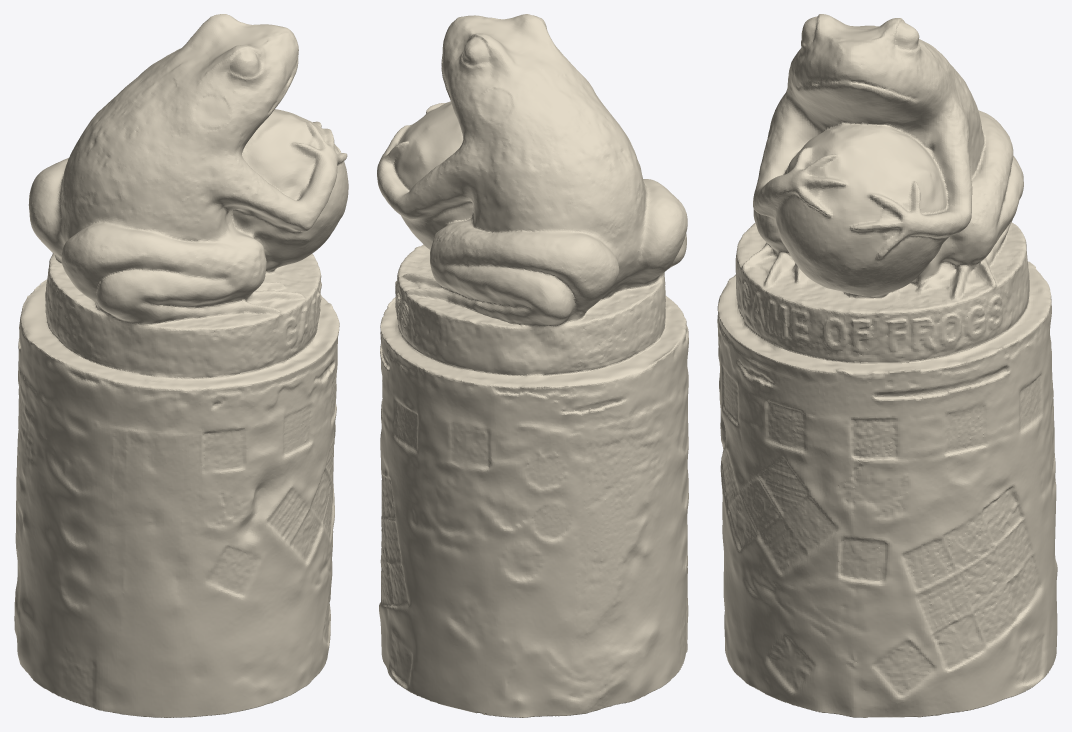
File: Prototype3_web.glb
The picture shows the model from 3 angles, left to right: view 1: azimuth 30°, elevation 25°; view 2: azimuth 150°, elevation 25°; view 3: azimuth 270°, elevation 25°; orthographic projection. The views are drawn at different scales.
Visible parts, largest first — view 1: Object_1; view 2: Object_1; view 3: Object_1.
Boxes of the visible parts, bbox=[...] form: Object_1: bbox=[14, 14, 348, 717]; Object_1: bbox=[377, 14, 688, 717]; Object_1: bbox=[717, 14, 1057, 717].
Size of the model in its own units: 0.4205 by 0.8687 by 0.4079.
